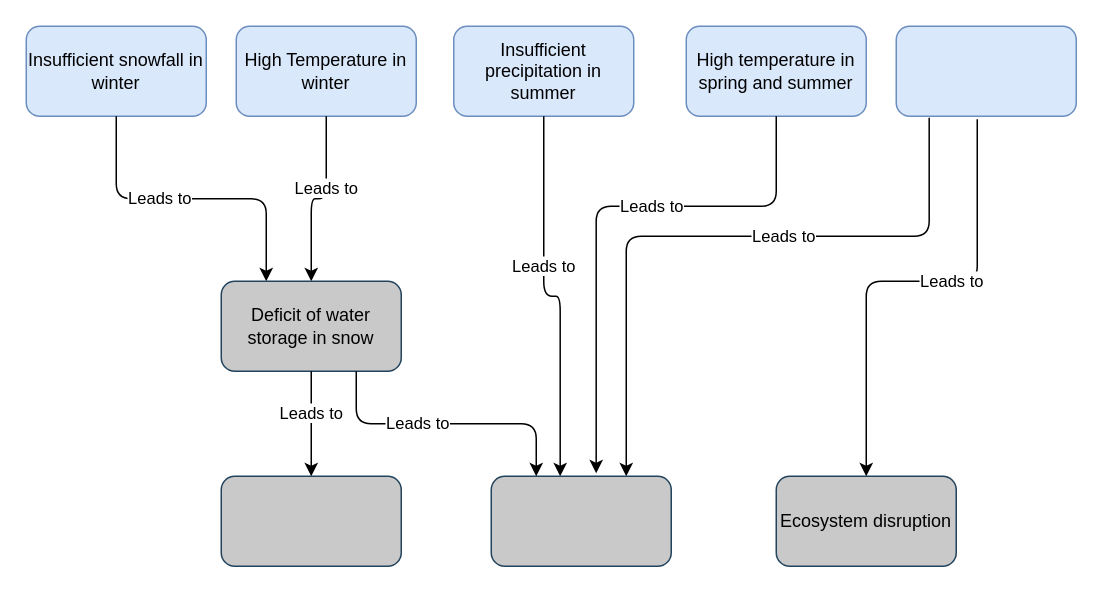
The diagram is 1103 pixels wide and 593 high, and some of its shapes have lost their labels. Here are the shapes that lost their labels. From the top down, the box of each, then its label:
(895, 25, 1076, 116): Heatwave
(220, 475, 401, 566): Low soil moisture
(490, 475, 671, 566): Drought
